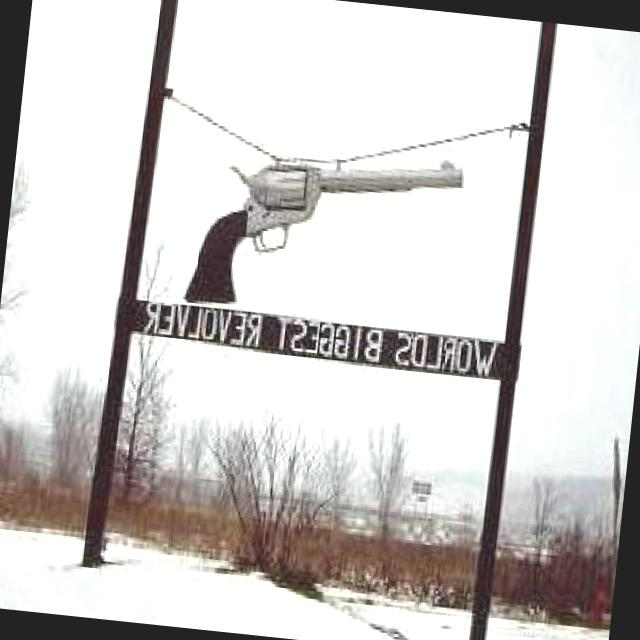handgun: (179, 115, 465, 321)
